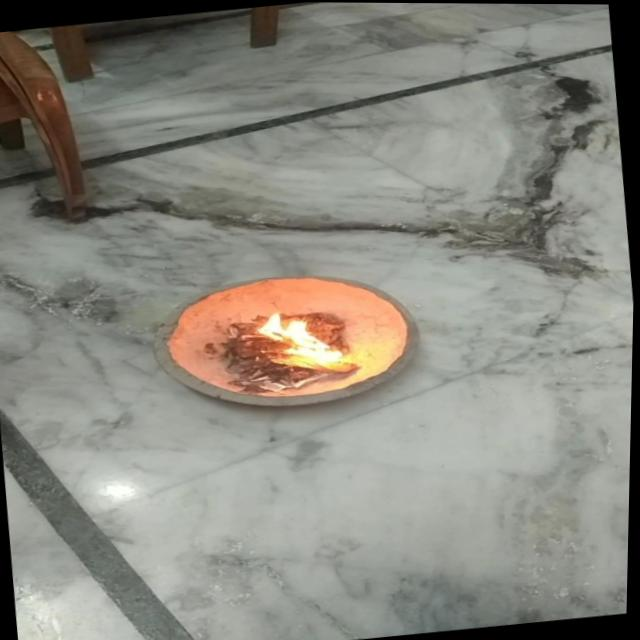fire: (249, 302, 359, 379)
